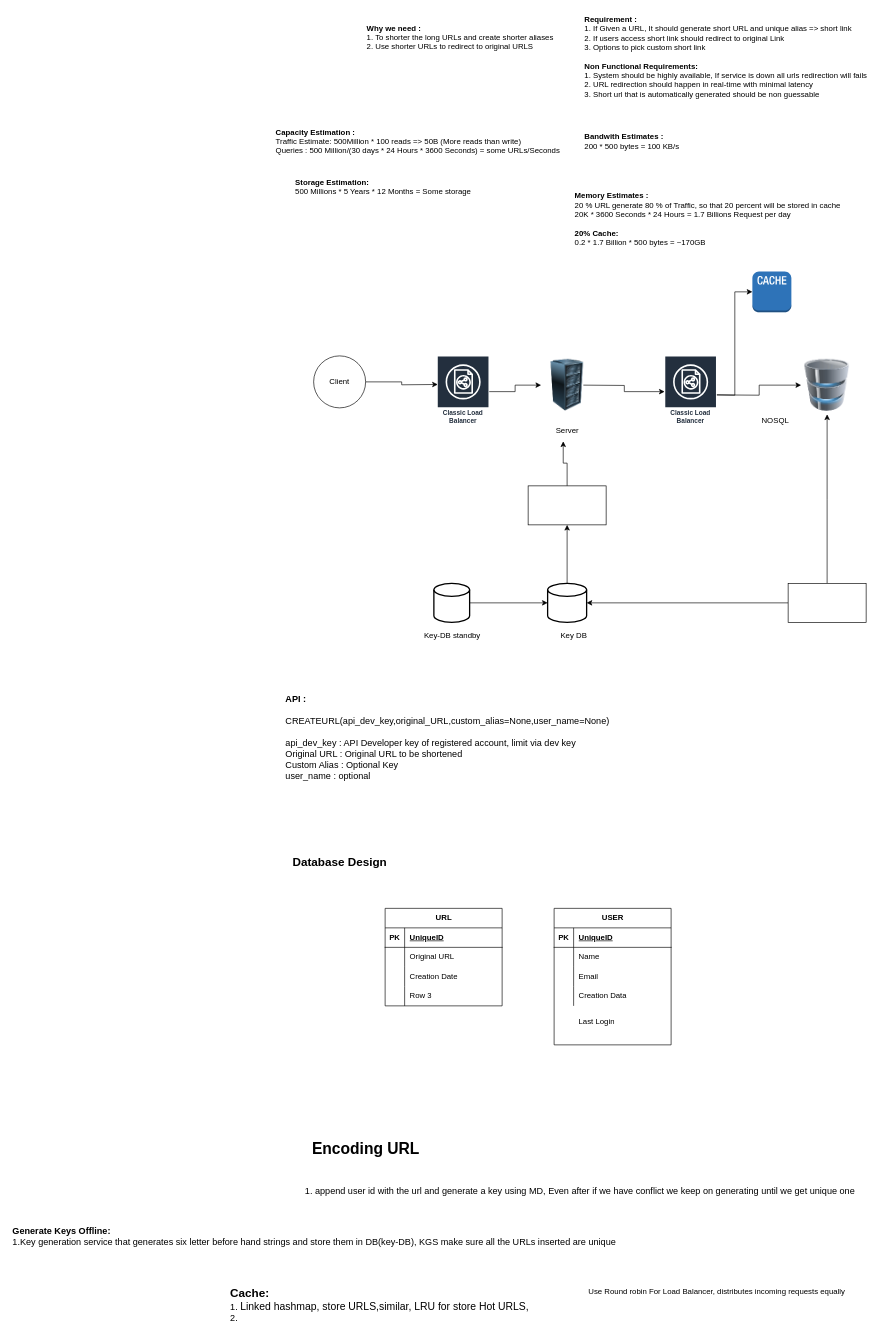
Image size: 893x1338. Some labels were removed from this diagram. Each missing label, with the centre of its shape:
Cleanup Service: the point at 826,602
Key Generation Service: the point at 566,505
